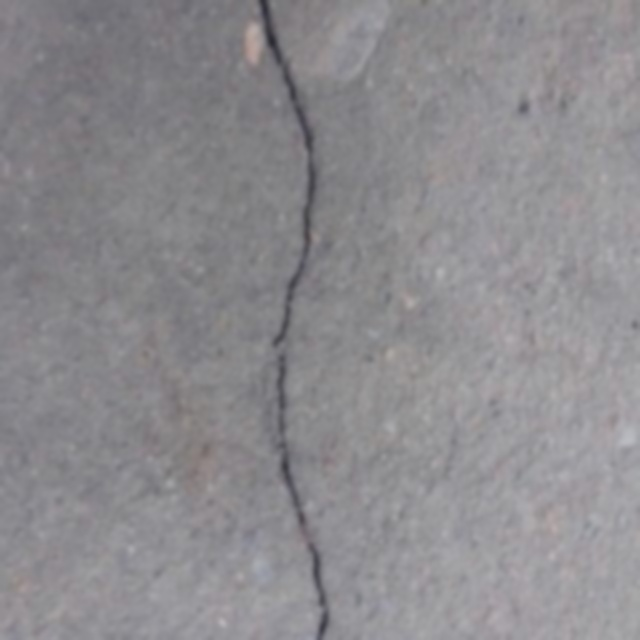SurfaceCrack: (230, 2, 364, 640)
